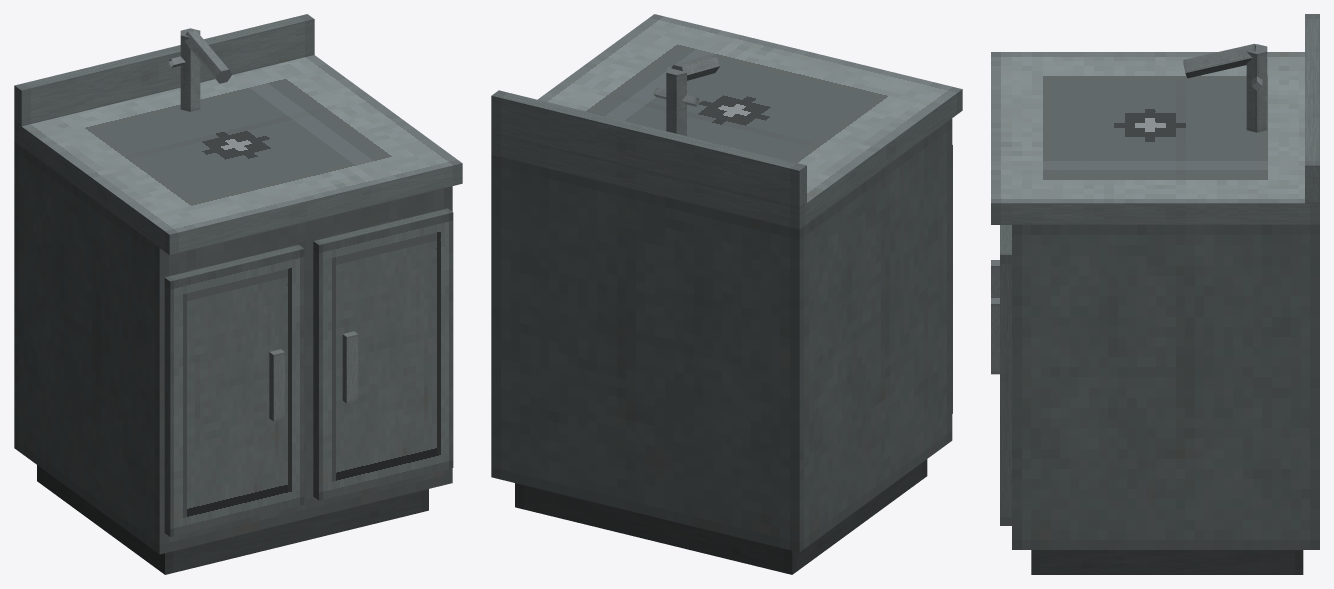
Rendered from sink.glb.
3 views of the same model, side by side, from view 1: azimuth 30°, elevation 25°; view 2: azimuth 150°, elevation 25°; view 3: azimuth 270°, elevation 25° (orthographic). The views are drawn at different scales.
Visible parts, largest first — view 1: core_sink; view 2: core_sink; view 3: core_sink.
Boxes of the visible parts, box(x1,y1,x2,y2) form: core_sink: box(14, 14, 462, 574); core_sink: box(491, 14, 962, 574); core_sink: box(991, 14, 1319, 574).
Size of the model in its own units: 0.6 by 0.8514 by 0.55.
1 material, 1 textured.
